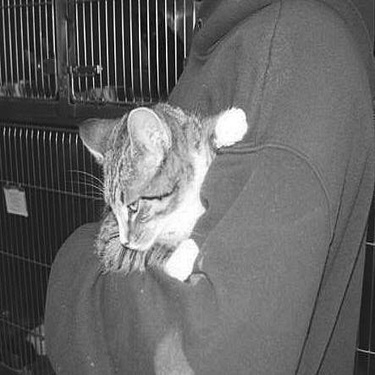cat: (58, 86, 263, 284)
